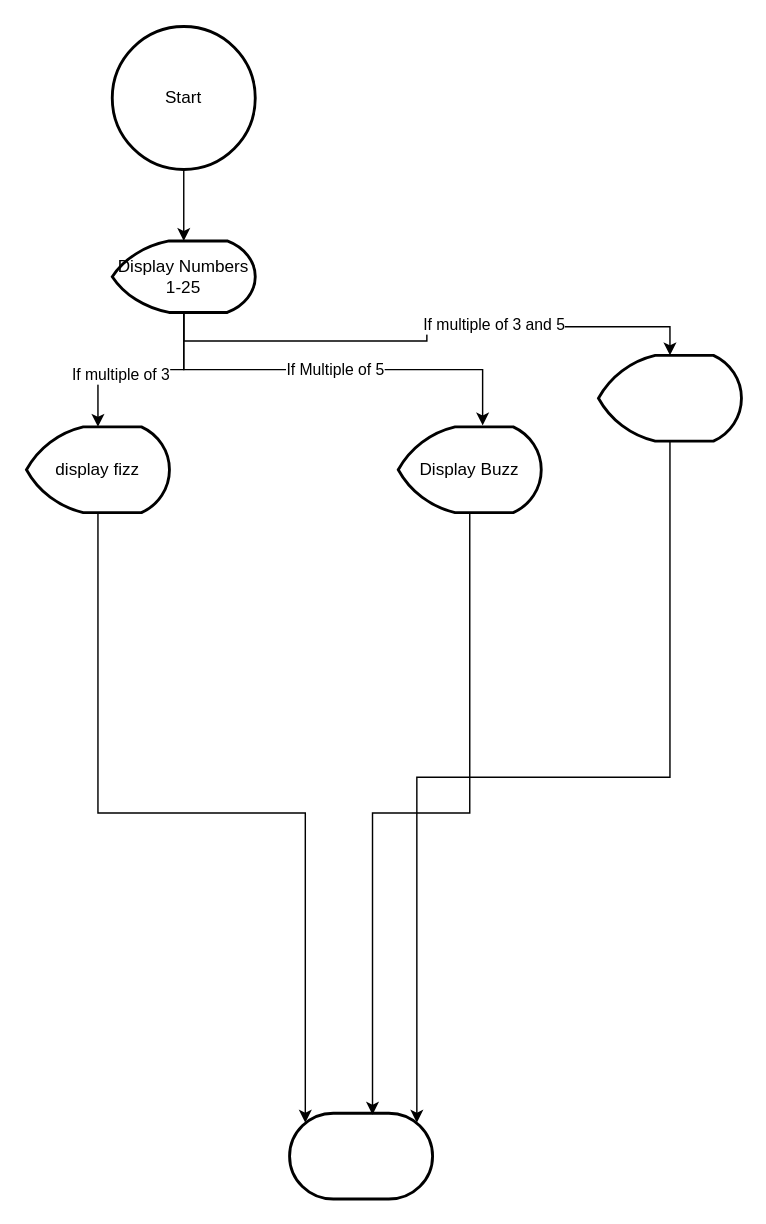
Image size: 766x1224. Some labels were removed from this diagram. The centre of each missing label's shape, as x and y in pixels:
"Display fizzBuzz" belongs at point 669,397.
"End" belongs at point 360,1155.
